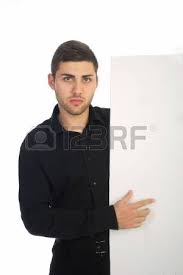hand: (105, 179, 164, 236)
